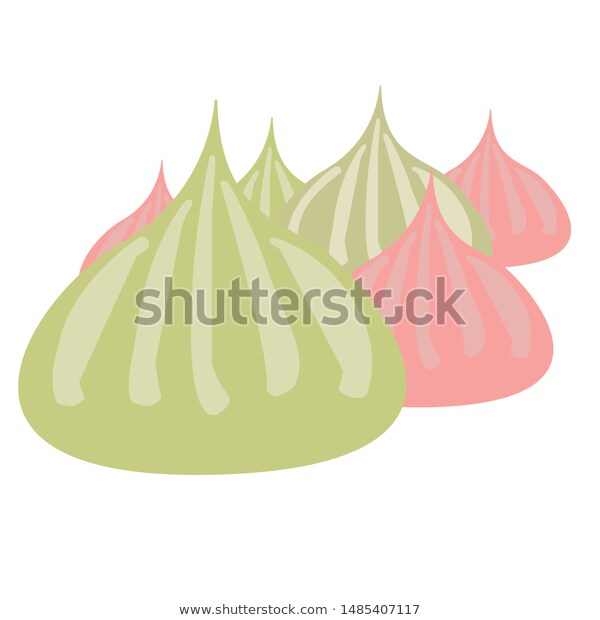modak: (7, 155, 430, 480), (289, 90, 573, 405)
